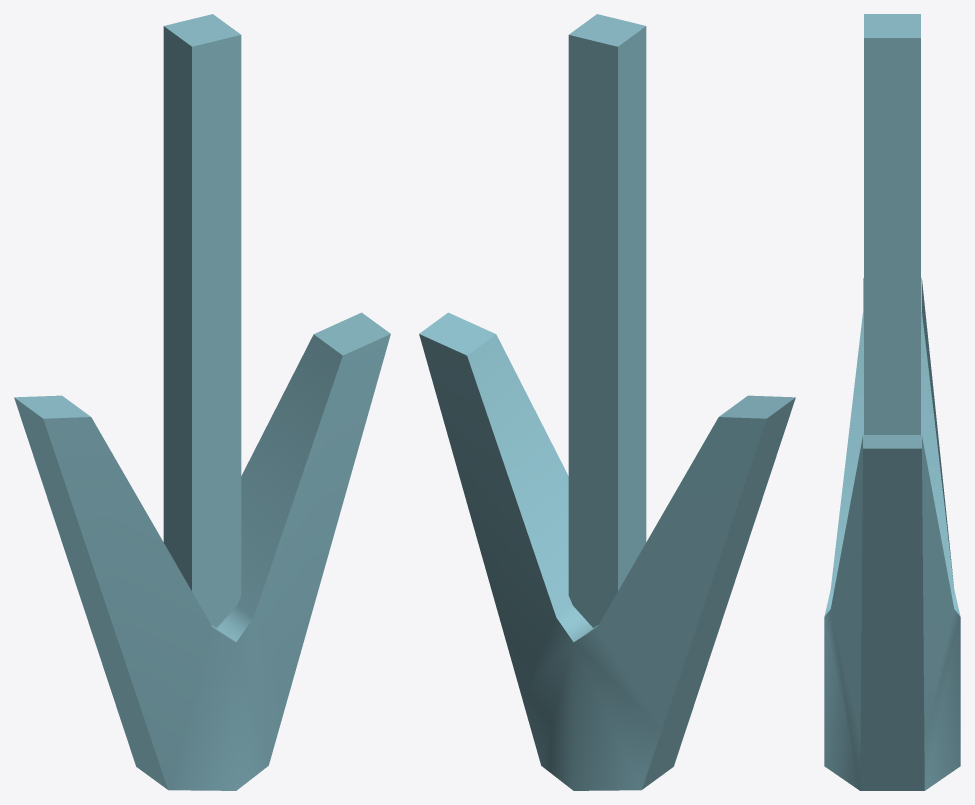
File: Mars-Arrow.fbx
The picture shows the model from 3 angles, left to right: view 1: azimuth 30°, elevation 25°; view 2: azimuth 150°, elevation 25°; view 3: azimuth 270°, elevation 25°; orthographic projection.
Parts seen in each view (by area): view 1: Pointer_Arrow; view 2: Pointer_Arrow; view 3: Pointer_Arrow.
Boxes of the visible parts, x1,y1,x2,y2 form: Pointer_Arrow: (14, 14, 390, 790); Pointer_Arrow: (419, 14, 795, 790); Pointer_Arrow: (824, 14, 960, 790).
Size of what is drawn, in the model's own units: 0.4682 by 0.9468 by 0.1578.
